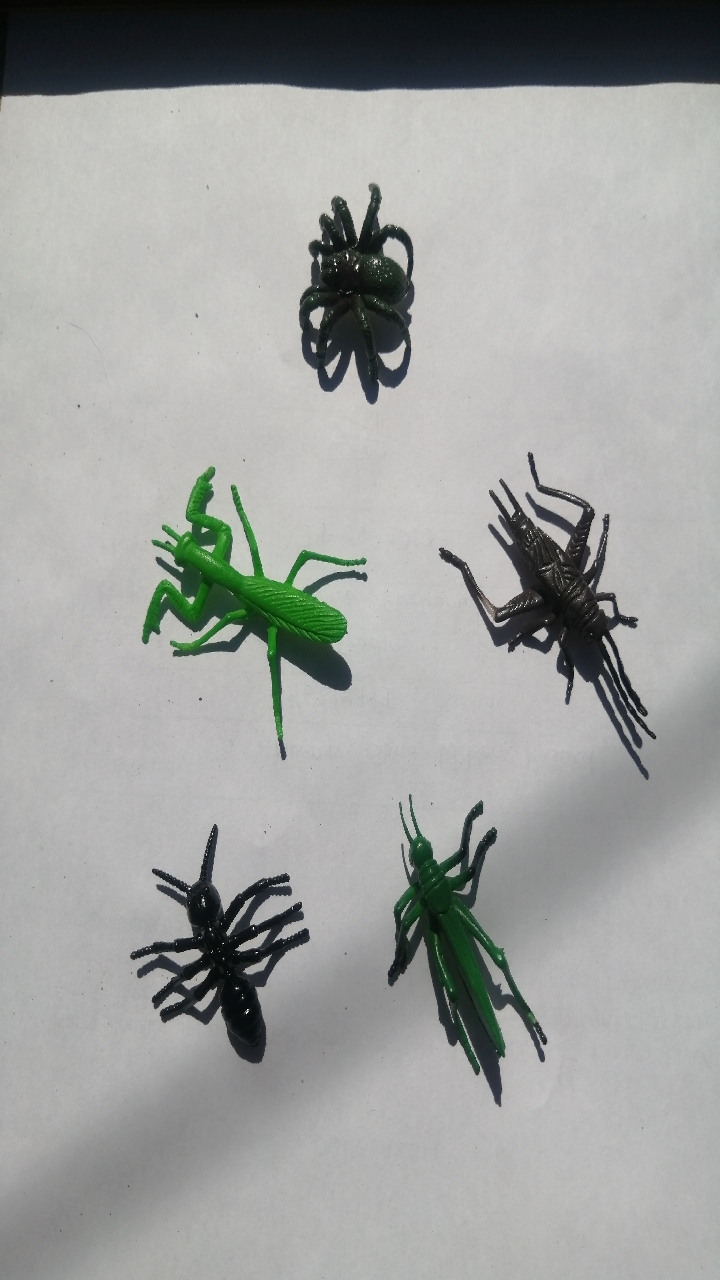intruso: (101, 419, 378, 755), (412, 422, 666, 779), (352, 772, 571, 1125), (95, 802, 332, 1100), (249, 143, 460, 397)
